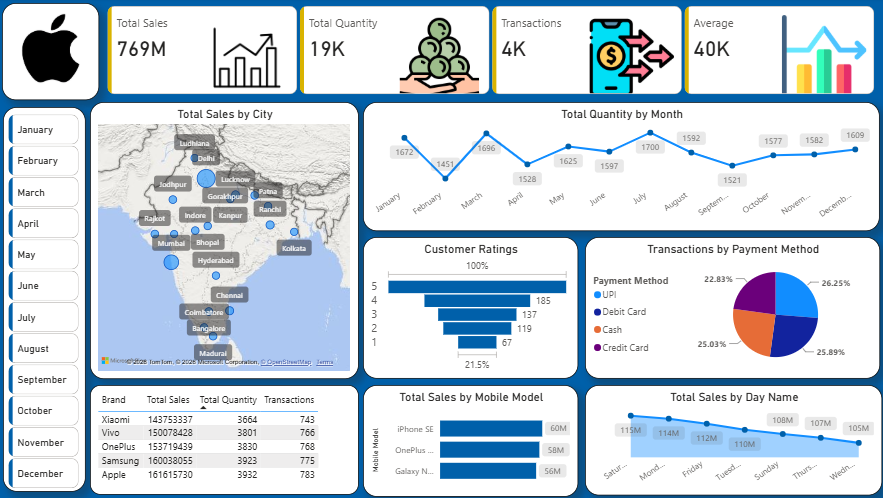

The page's visual inventory and layout, read from the dashboard file:
{"tool":"powerbi","page":{"name":"Page 1","canvas":[1280,720],"ordinal":0},"visuals":[{"type":"shape","box":[5.8,7.2,139.7,139.7],"z":0},{"type":"shape","box":[6.9,156.4,119.4,554.4],"z":2000},{"type":"advancedSlicerVisual","fields":{"Values":["Sales_Data.Date.Variation.Date Hierarchy.Month"]},"box":[10.1,162.7,111.1,548.9],"z":3000},{"type":"cardVisual","fields":{"Data":["Sales_Data.Total Sales","Sales_Data.Total Quantity","Sales_Data.Transactions","Sales_Data.Average"]},"box":[152.6,11.5,1117.4,132.5],"z":4000},{"type":"map","fields":{"Category":["Sales_Data.City"],"Size":["Sales_Data.Total Sales"]},"box":[132.5,149.8,387.4,398.9],"z":5000},{"type":"lineChart","fields":{"Category":["Sales_Data.Date.Variation.Date Hierarchy.Month","Sales_Data.Date.Variation.Date Hierarchy.Day"],"Y":["Sales_Data.Total Quantity"]},"box":[525.6,149.8,744.5,185.8],"z":6000},{"type":"clusteredBarChart","fields":{"Category":["Sales_Data.Mobile Model"],"Y":["Sales_Data.Total Sales"]},"box":[525.6,557.3,310.1,160.5],"z":7000},{"type":"pieChart","fields":{"Category":["Sales_Data.Payment Method"],"Y":["Sales_Data.Transactions"]},"box":[845.3,344.2,424.8,204.5],"z":8000},{"type":"funnel","title":"Customer Ratings","fields":{"Category":["Sales_Data.Customer Ratings"],"Y":["CountNonNull(Sales_Data.Customer Ratings)"]},"box":[525.6,344.2,309.6,204.5],"z":9000},{"type":"areaChart","fields":{"Category":["Sales_Data.Day Name"],"Y":["Sales_Data.Total Sales"]},"box":[845.3,557.1,428.1,159.2],"z":10000},{"type":"tableEx","fields":{"Values":["Sales_Data.Brand","Sales_Data.Total Sales","Sales_Data.Total Quantity","Sales_Data.Transactions"]},"box":[132.5,557.3,387.4,158.4],"z":11000},{"type":"image","box":[10.1,7.2,132.5,129.6],"z":11001}]}

Visuals, with their boxes in screenshot pixels (x1, y1, x2, y2), scaled from the page's 1280x720 canvas onto the 883x498 screenshot:
shape: [4, 5, 100, 102]
shape: [5, 108, 87, 492]
advancedSlicerVisual - Sales_Data.Date.Variation.Date Hierarchy.Month: [7, 113, 84, 492]
cardVisual - Sales_Data.Total Sales x Sales_Data.Total Quantity: [105, 8, 876, 100]
map - Sales_Data.City x Sales_Data.Total Sales: [91, 104, 359, 380]
lineChart - Sales_Data.Date.Variation.Date Hierarchy.Month x Sales_Data.Date.Variation.Date Hierarchy.Day: [363, 104, 876, 232]
clusteredBarChart - Sales_Data.Mobile Model x Sales_Data.Total Sales: [363, 385, 577, 496]
pieChart - Sales_Data.Payment Method x Sales_Data.Transactions: [583, 238, 876, 380]
"Customer Ratings" funnel: [363, 238, 576, 380]
areaChart - Sales_Data.Day Name x Sales_Data.Total Sales: [583, 385, 878, 495]
tableEx - Sales_Data.Brand x Sales_Data.Total Sales: [91, 385, 359, 495]
image: [7, 5, 98, 95]
